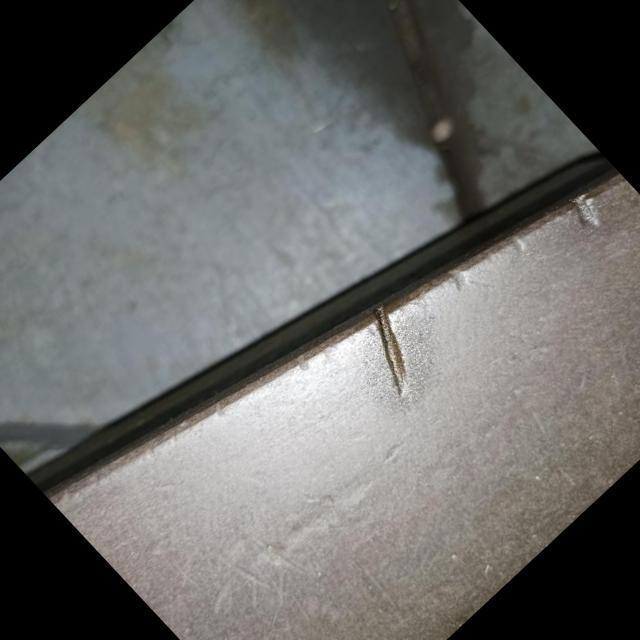defect: (370, 302, 408, 391)
